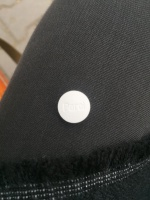Parol: (55, 90, 92, 125)
